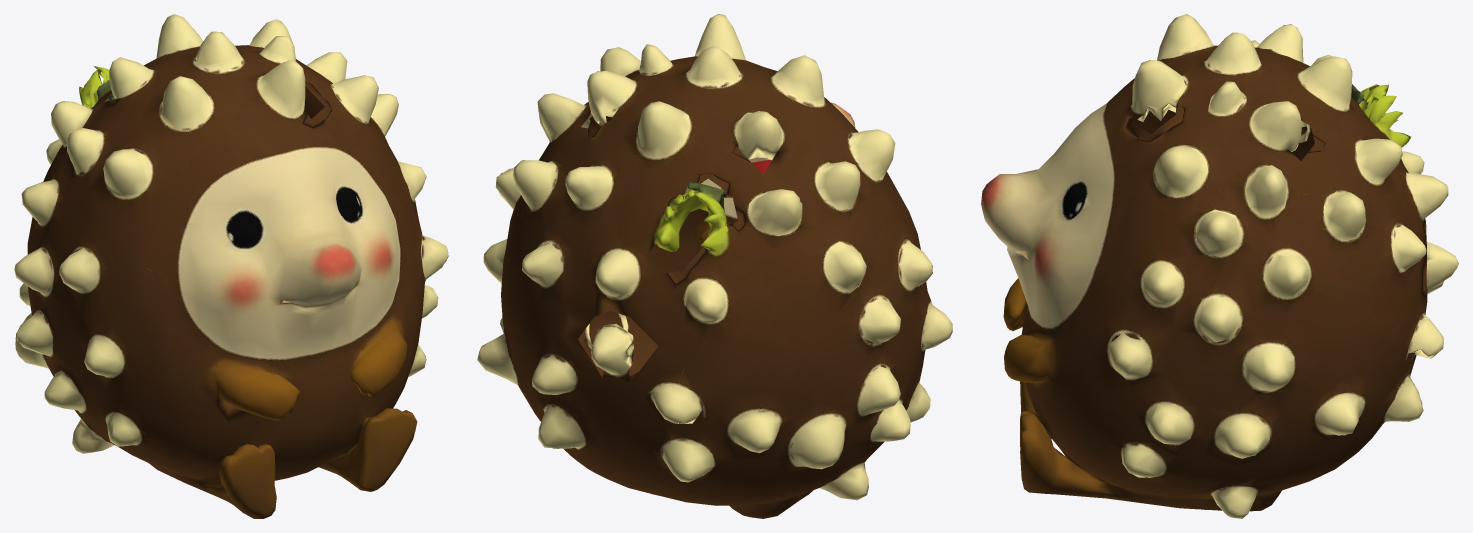
The model's file is prickle.glb.
The picture shows the model from 3 angles, left to right: view 1: azimuth 30°, elevation 25°; view 2: azimuth 150°, elevation 25°; view 3: azimuth 270°, elevation 25°; orthographic projection. The views are drawn at different scales.
Visible parts, largest first — view 1: world; view 2: world; view 3: world.
Boxes of the visible parts, bbox=[...] form: world: bbox=[14, 14, 448, 518]; world: bbox=[477, 14, 952, 518]; world: bbox=[981, 14, 1458, 518].
Bounding box in the file's own units: 0.9506 × 0.9945 × 0.9673.
Materials: 1 (1 with a texture image).
